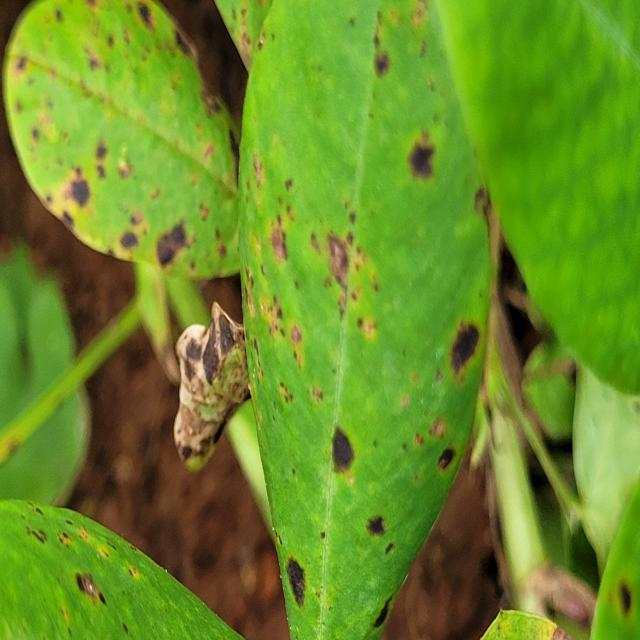Ground nut_tikka leaf spot: (240, 0, 492, 640), (2, 0, 242, 278)
